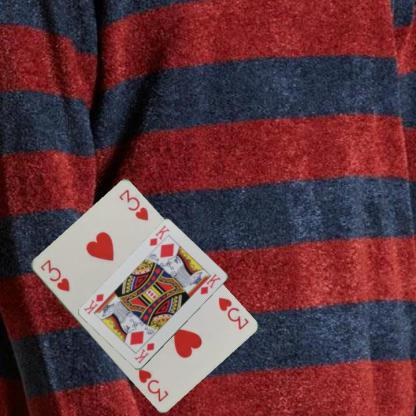3h: (215, 295, 250, 331), (37, 256, 71, 293)
Kd: (147, 222, 171, 248), (132, 340, 156, 365)
